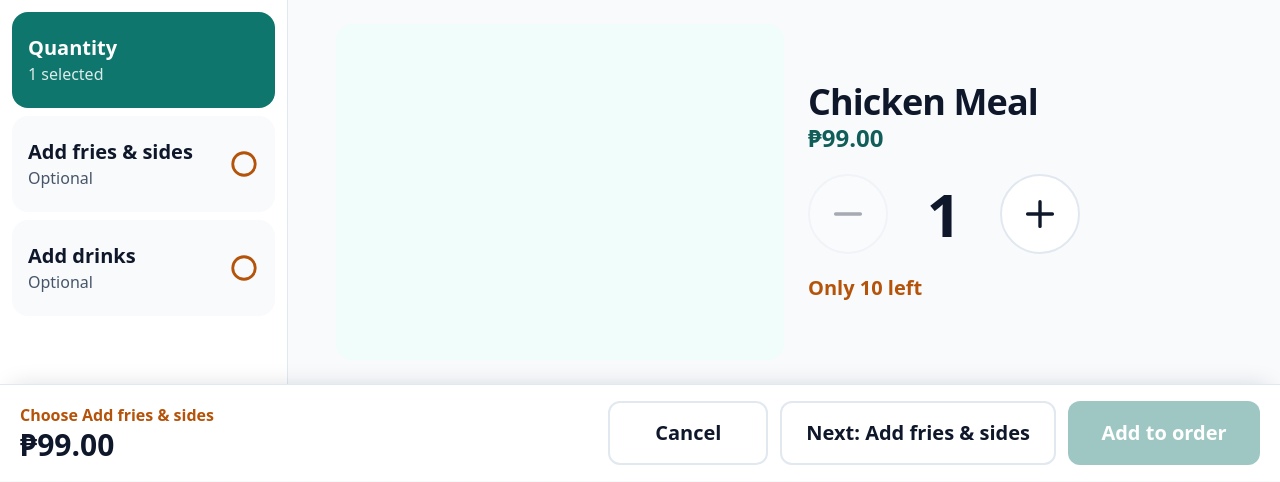
Test: KioskItemPage › with modifier groups › shows a sold-out modifier but does not let it be picked
Click the tab "Add drinks Optional". click: (82, 256)
box: [12, 220, 275, 316]
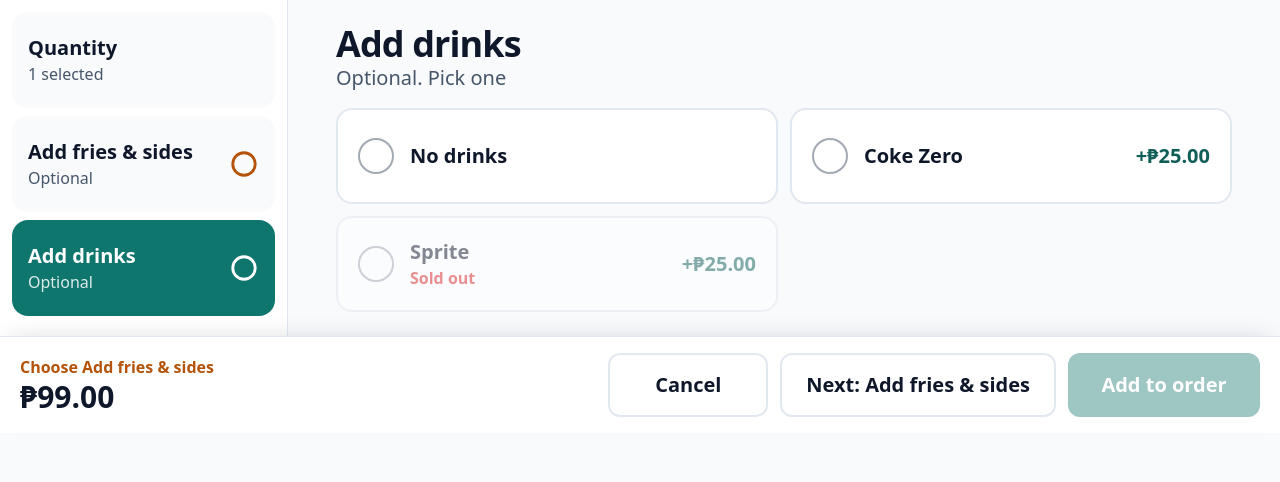
Check: the radio button labelled "Sprite Sold out +₱25.00" is disabled, box [336, 216, 778, 312]
Check: the radio button labelled "Sprite Sold out +₱25.00" is shown, box [336, 216, 778, 312]
